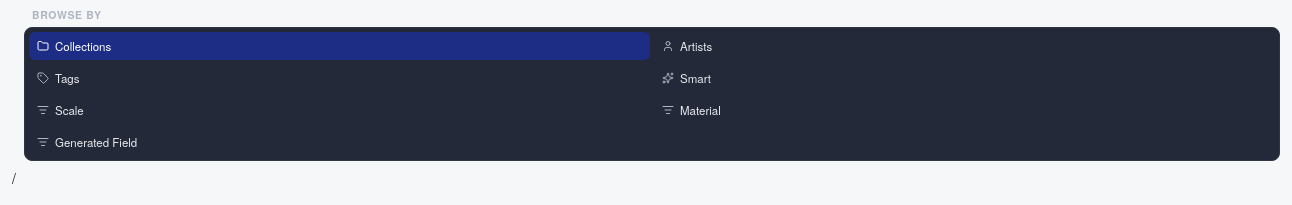
AxisPicker › selects a metadata axis using metadata:<slug> URL encoding
The width and height of the screenshot is (1292, 205).
Click the button "Scale": (43, 110) [29, 96, 650, 124]
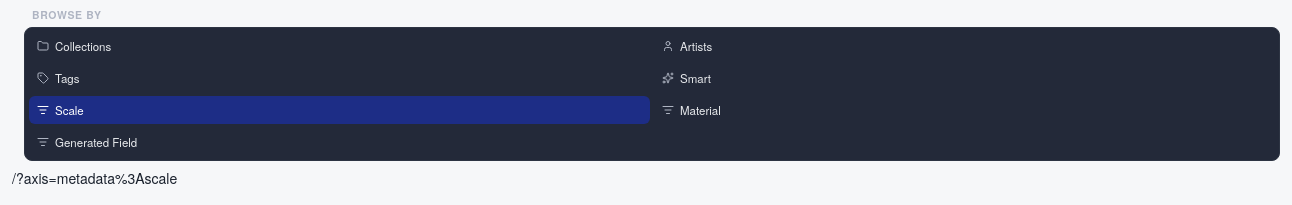
Expected: the text with test id "location" reads "/?axis=metadata%3Ascale", [16, 168, 177, 188]
